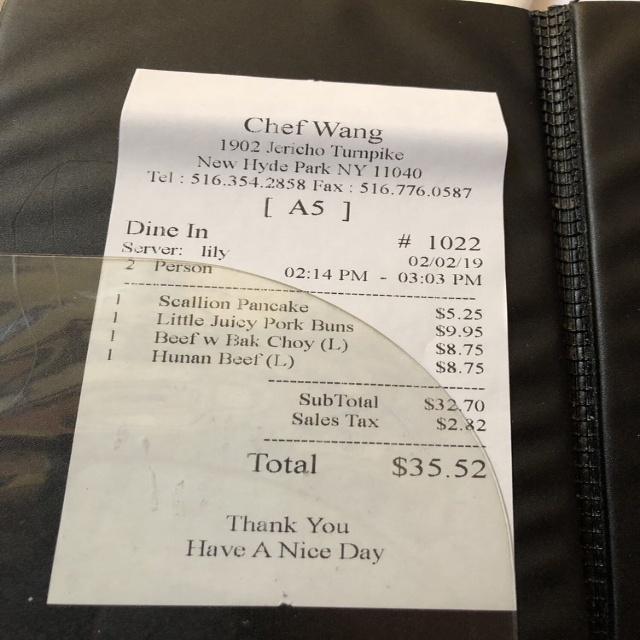invoice_table: (104, 288, 487, 387)
invoice_title: (145, 110, 473, 200)
invoice_total: (245, 451, 490, 478)
